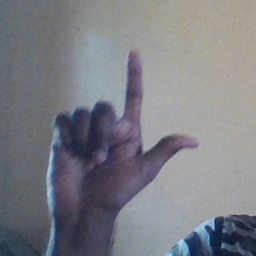L: (45, 50, 202, 212)
